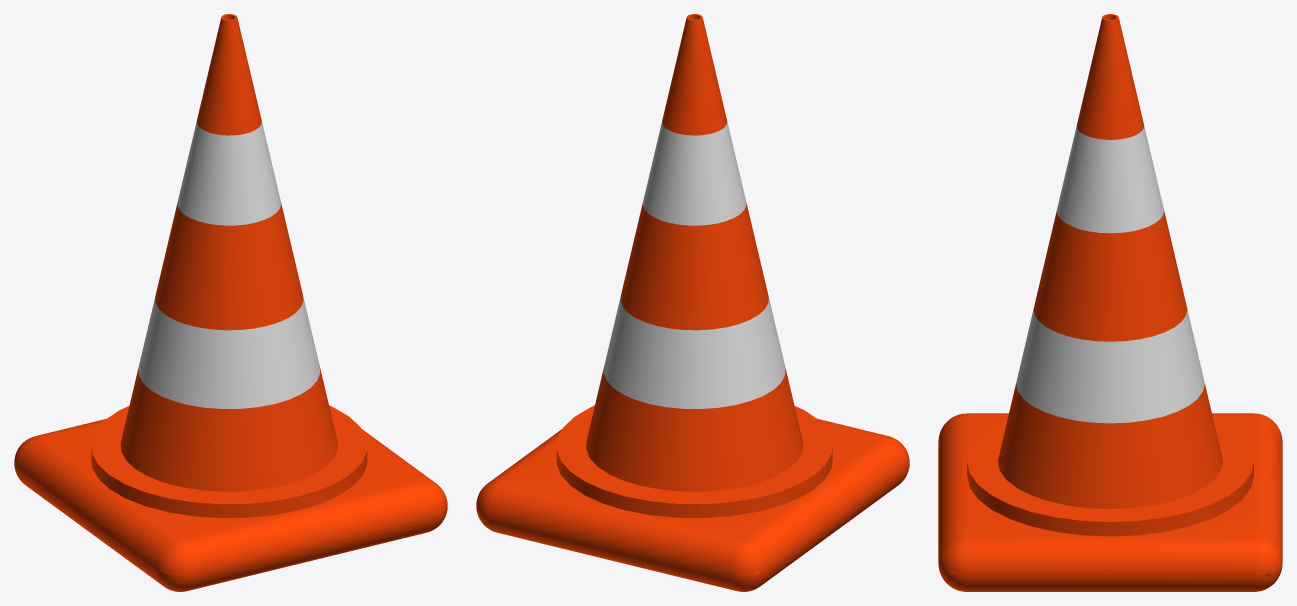
3 renders of one model, left to right at view 1: azimuth 30°, elevation 25°; view 2: azimuth 150°, elevation 25°; view 3: azimuth 270°, elevation 25°, orthographic. The views are drawn at different scales.
Parts seen in each view (by area): view 1: Cube; view 2: Cube; view 3: Cube.
Part boxes in pixels (<box>): Cube: <box>14,14,447,591</box>; Cube: <box>476,14,909,591</box>; Cube: <box>938,14,1282,591</box>.
Size of the model in its own units: 30 by 49.08 by 30.
